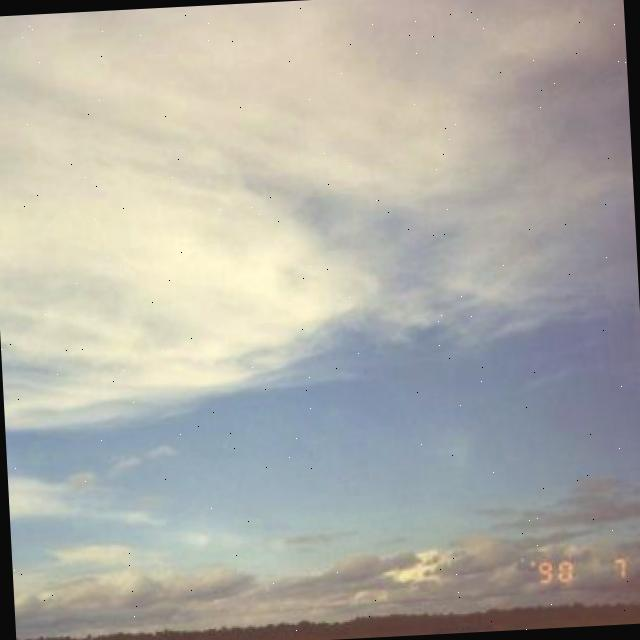Ci: (1, 15, 640, 491)
